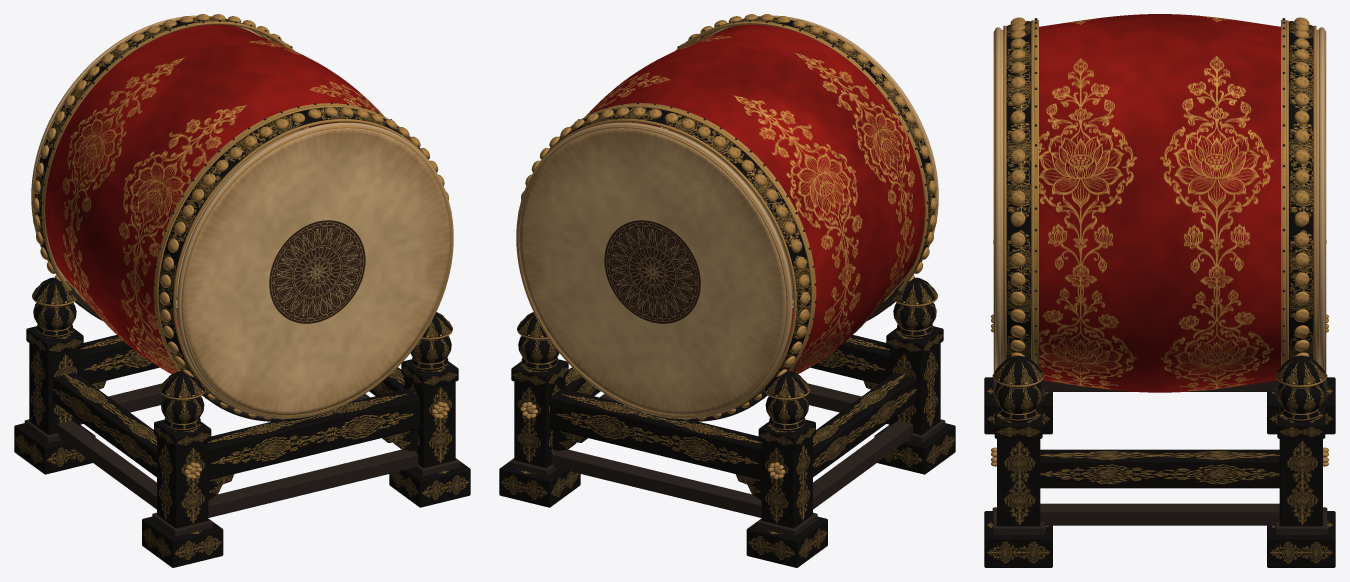
The model's file is lion-action-drum.glb.
3 renders of one model, left to right at view 1: azimuth 30°, elevation 25°; view 2: azimuth 150°, elevation 25°; view 3: azimuth 270°, elevation 25°, orthographic. The views are drawn at different scales.
Parts seen in each view (by area): view 1: Drum_PBR_02 · 天然鼓皮 / 褐色团花, Drum_PBR_01 · 深朱红漆 / 手绘金线, Drum_PBR_03 · 黑漆木 / 描金莲纹, Drum_PBR_04 · 旧黄铜 / 微细氧化, Drum_PBR_06 · 接缝暗木, Drum_PBR_05 · 黑金鼓箍 / 周向小纹, Drum_PBR_07 · 鼓皮折边; view 2: Drum_PBR_02 · 天然鼓皮 / 褐色团花, Drum_PBR_01 · 深朱红漆 / 手绘金线, Drum_PBR_03 · 黑漆木 / 描金莲纹, Drum_PBR_04 · 旧黄铜 / 微细氧化, Drum_PBR_06 · 接缝暗木, Drum_PBR_05 · 黑金鼓箍 / 周向小纹, Drum_PBR_07 · 鼓皮折边; view 3: Drum_PBR_01 · 深朱红漆 / 手绘金线, Drum_PBR_03 · 黑漆木 / 描金莲纹, Drum_PBR_04 · 旧黄铜 / 微细氧化, Drum_PBR_05 · 黑金鼓箍 / 周向小纹, Drum_PBR_06 · 接缝暗木, Drum_PBR_07 · 鼓皮折边.
Boxes of the visible parts, x1,y1,x2,y2 form: Drum_PBR_02 · 天然鼓皮 / 褐色团花: (176, 129, 450, 415); Drum_PBR_01 · 深朱红漆 / 手绘金线: (45, 24, 384, 374); Drum_PBR_03 · 黑漆木 / 描金莲纹: (14, 277, 470, 567); Drum_PBR_04 · 旧黄铜 / 微细氧化: (32, 14, 452, 479); Drum_PBR_06 · 接缝暗木: (24, 20, 460, 536); Drum_PBR_05 · 黑金鼓箍 / 周向小纹: (34, 17, 423, 408); Drum_PBR_07 · 鼓皮折边: (31, 15, 453, 418); Drum_PBR_02 · 天然鼓皮 / 褐色团花: (519, 129, 793, 415); Drum_PBR_01 · 深朱红漆 / 手绘金线: (585, 24, 924, 374); Drum_PBR_03 · 黑漆木 / 描金莲纹: (499, 277, 955, 567); Drum_PBR_04 · 旧黄铜 / 微细氧化: (517, 14, 937, 479); Drum_PBR_06 · 接缝暗木: (509, 20, 945, 536); Drum_PBR_05 · 黑金鼓箍 / 周向小纹: (546, 17, 935, 408); Drum_PBR_07 · 鼓皮折边: (516, 15, 938, 418); Drum_PBR_01 · 深朱红漆 / 手绘金线: (1039, 14, 1280, 392); Drum_PBR_03 · 黑漆木 / 描金莲纹: (984, 355, 1335, 567); Drum_PBR_04 · 旧黄铜 / 微细氧化: (991, 17, 1328, 466); Drum_PBR_05 · 黑金鼓箍 / 周向小纹: (1006, 21, 1313, 358); Drum_PBR_06 · 接缝暗木: (992, 18, 1327, 534); Drum_PBR_07 · 鼓皮折边: (993, 27, 1326, 372).
Size of the model in its own units: 2.5 by 3.29 by 2.3.
Materials: 7 (5 with a texture image).
